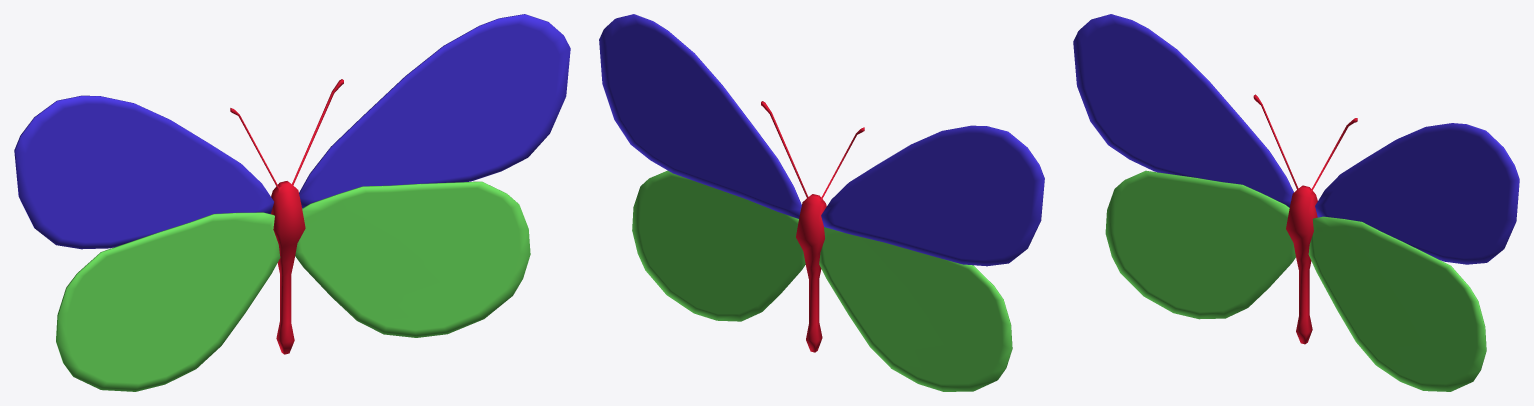
The model's file is White_Butterfly-anim.fbx.
The picture shows the model from 3 angles, left to right: view 1: azimuth 30°, elevation 25°; view 2: azimuth 150°, elevation 25°; view 3: azimuth 330°, elevation 25°; orthographic projection. The views are drawn at different scales.
Parts seen in each view (by area): view 1: Plane.002, Plane.001, Plane; view 2: Plane.001, Plane.002, Plane; view 3: Plane.001, Plane.002, Plane.
Boxes of the visible parts, x1=… form: Plane.002: x1=295, y1=14, x2=570, y2=337; Plane.001: x1=14, y1=95, x2=280, y2=391; Plane: x1=230, y1=79, x2=343, y2=354; Plane.001: x1=819, y1=125, x2=1044, y2=391; Plane.002: x1=599, y1=14, x2=805, y2=321; Plane: x1=761, y1=101, x2=864, y2=352; Plane.001: x1=1073, y1=14, x2=1295, y2=319; Plane.002: x1=1308, y1=123, x2=1519, y2=391; Plane: x1=1253, y1=94, x2=1357, y2=344.
Size of the model in its own units: 474 by 266 by 55.96.
